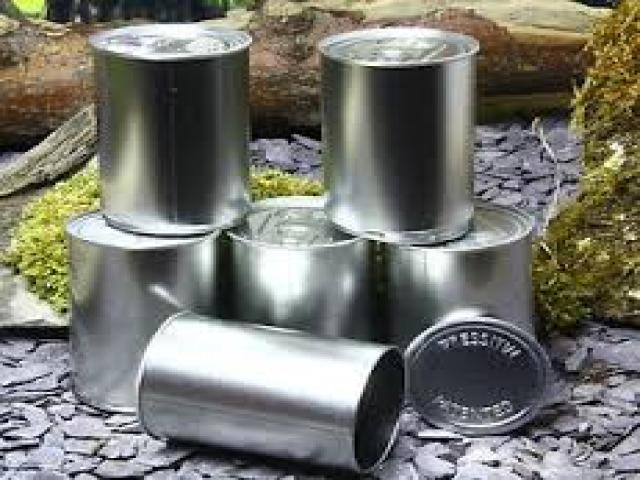Canned_drinks: (130, 306, 402, 473), (86, 20, 249, 233), (318, 26, 476, 243), (64, 209, 224, 410), (380, 198, 529, 379), (219, 194, 379, 343), (396, 310, 549, 436)
